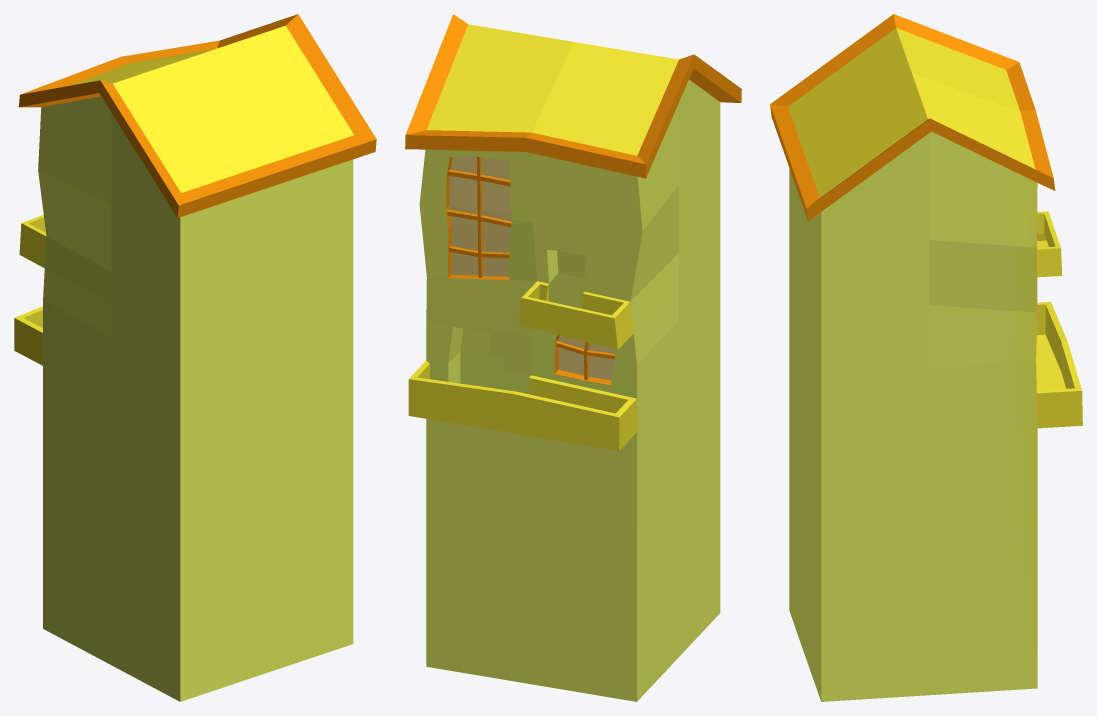
Rendered from Level_6.fbx.
3 views of the same model, side by side, from view 1: azimuth 30°, elevation 25°; view 2: azimuth 150°, elevation 25°; view 3: azimuth 270°, elevation 25° (orthographic). The views are drawn at different scales.
Visible parts, largest first — view 1: Cube.007; view 2: Cube.007; view 3: Cube.007.
Part boxes in pixels (bbox=[...]): Cube.007: bbox=[14, 14, 376, 701]; Cube.007: bbox=[405, 14, 741, 701]; Cube.007: bbox=[770, 14, 1082, 701].
Size of the model in its own units: 3808 by 8594 by 4176.
